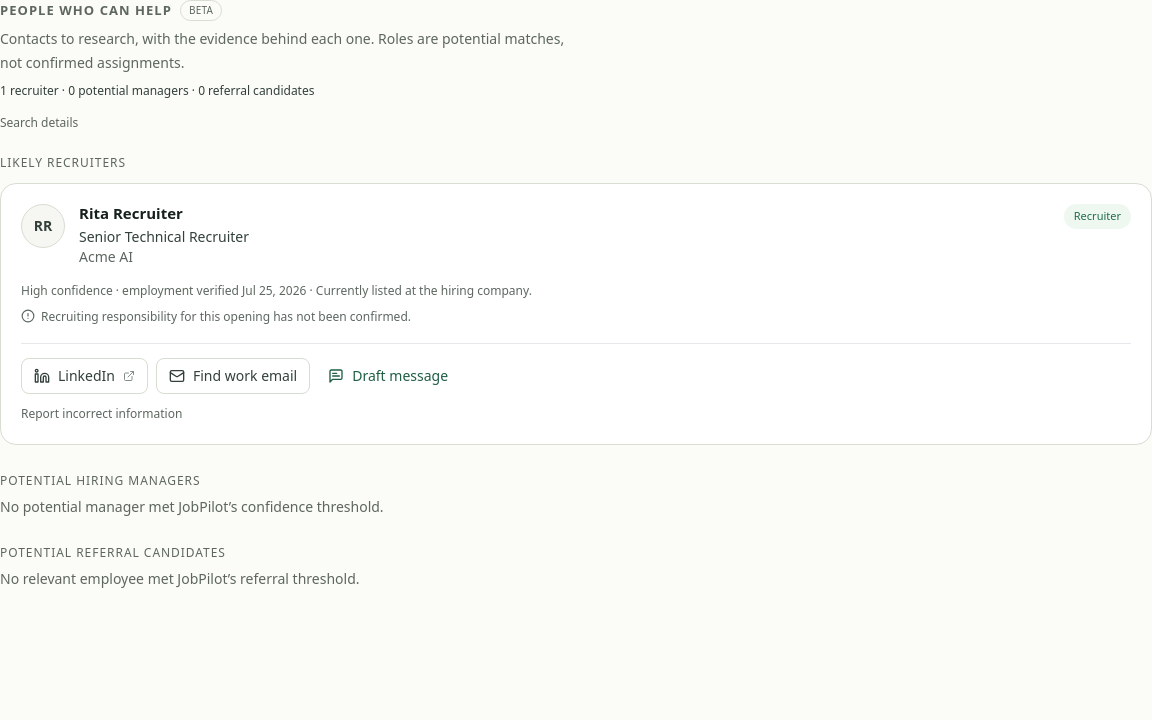
Test case: PeopleWhoCanHelp › opens an editable manual-review dialog for a grounded draft
Click the button "Draft message".
click(388, 376)  # box [318,358,458,394]
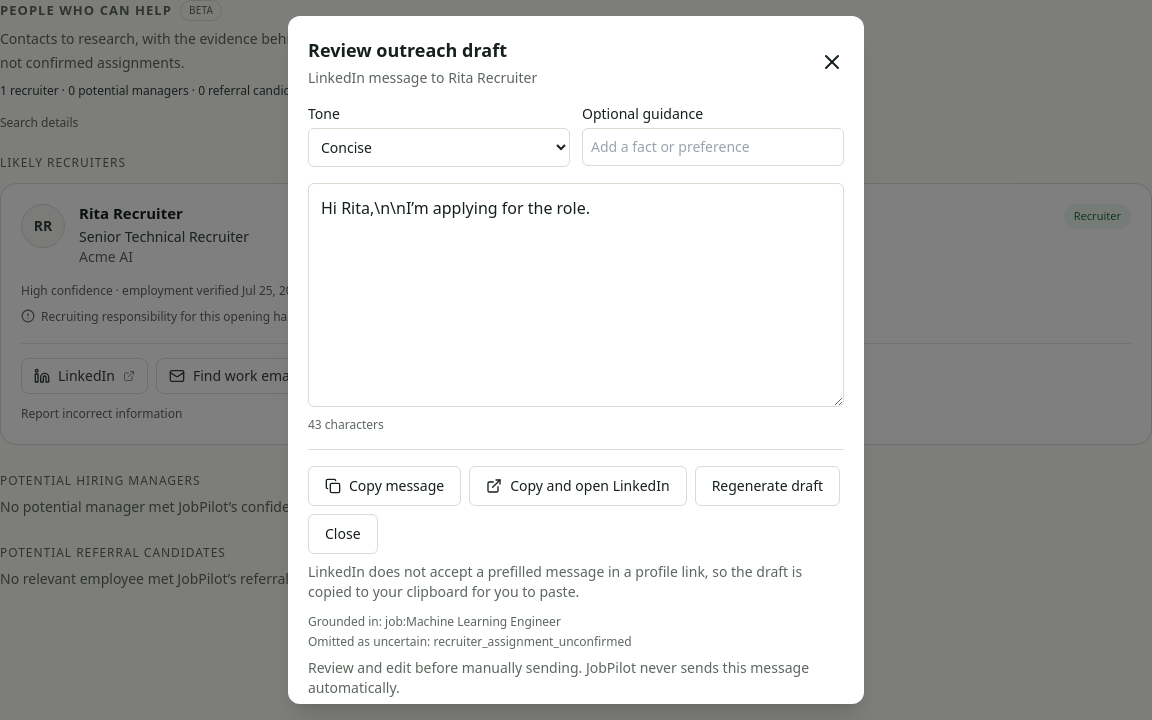
Result: the dialog "Review outreach draft" is shown
Result: the text "never sends this message automatically" is shown at [308,658,809,697]
Result: the text box named "Outreach draft" holds "Hi Rita,\\n\\nI’m applying for the role." at [308,183,844,407]
